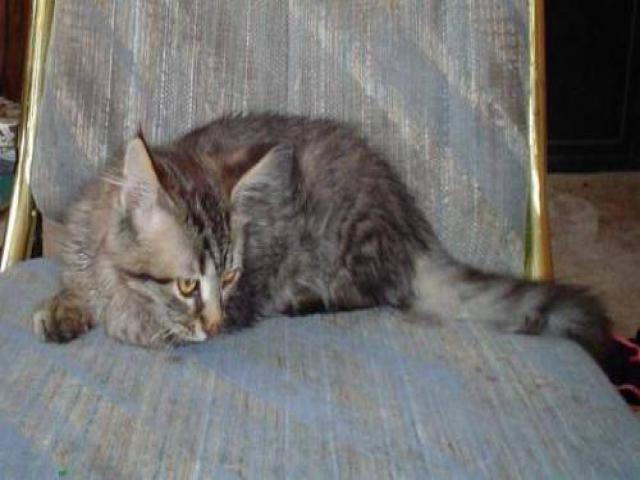cat: (39, 115, 605, 367)
